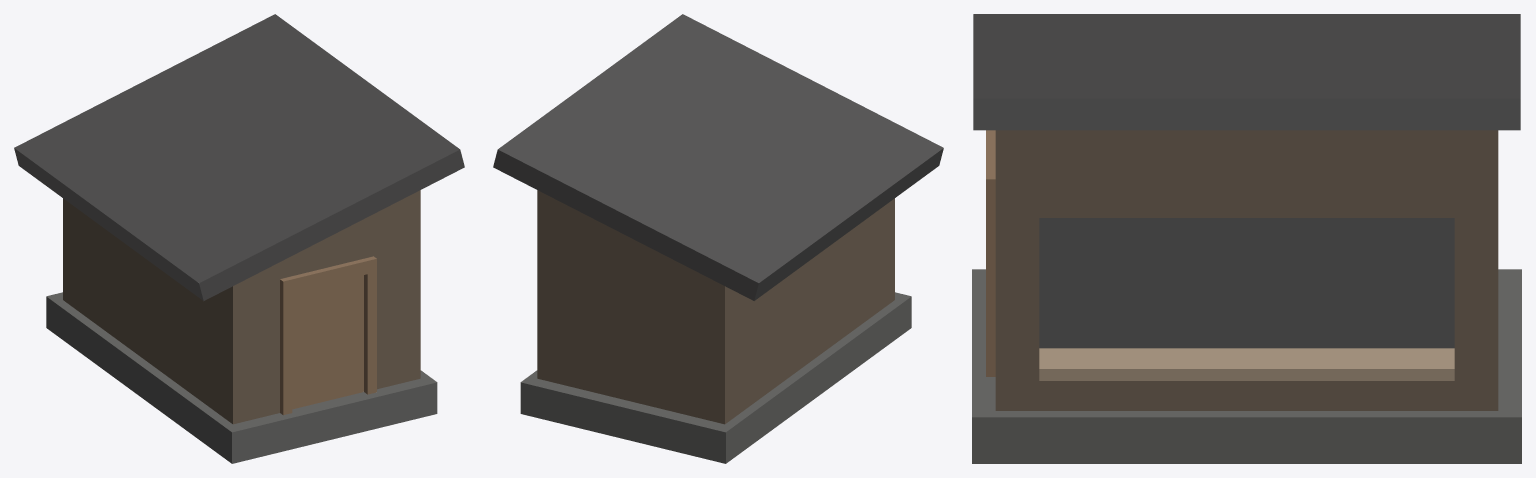
File: Shop.fbx
3 views of the same model, side by side, from view 1: azimuth 30°, elevation 25°; view 2: azimuth 150°, elevation 25°; view 3: azimuth 270°, elevation 25° (orthographic). The views are drawn at different scales.
Parts seen in each view (by area): view 1: Cube.017; view 2: Cube.017; view 3: Cube.017.
Boxes of the visible parts, <box> form: Cube.017: <box>14,14,464,463</box>; Cube.017: <box>493,14,943,463</box>; Cube.017: <box>972,14,1521,463</box>.
Bounding box in the file's own units: 283 × 263 × 343.
